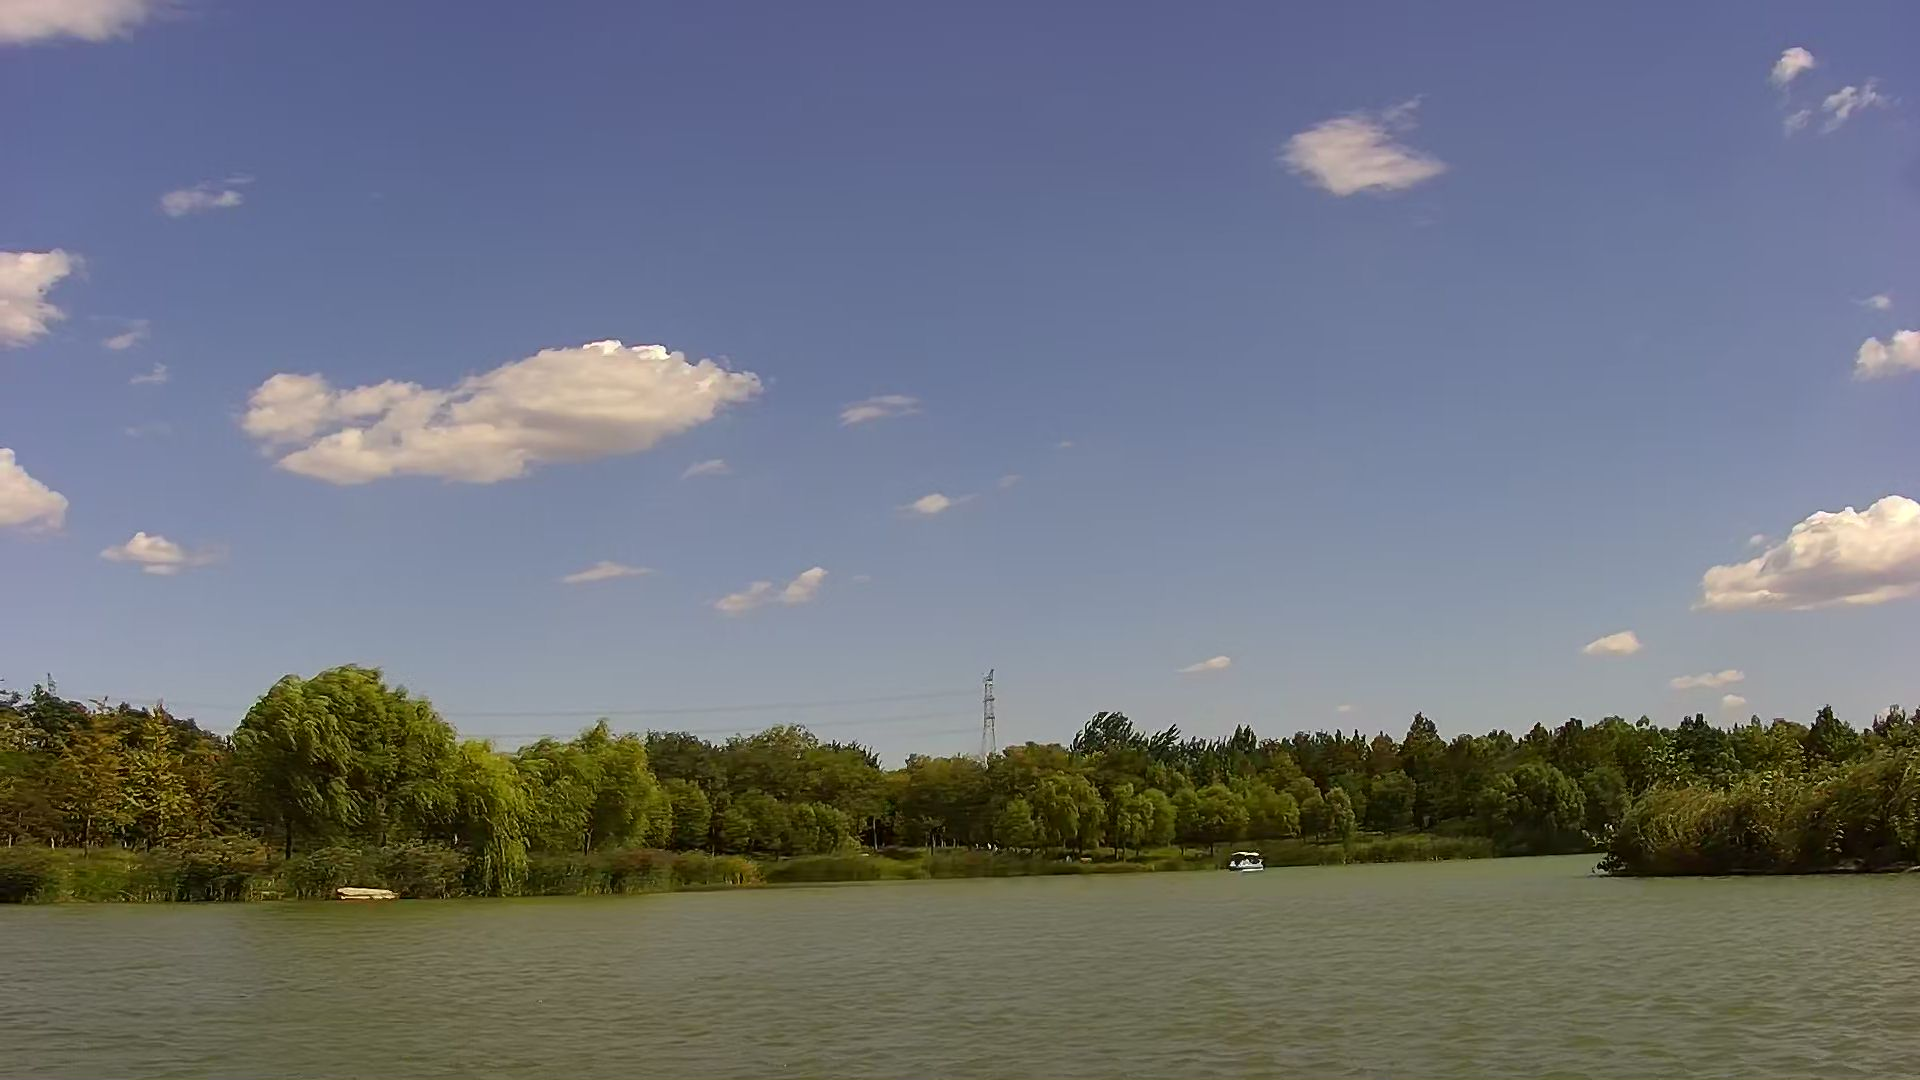boat: (1224, 851, 1271, 874)
